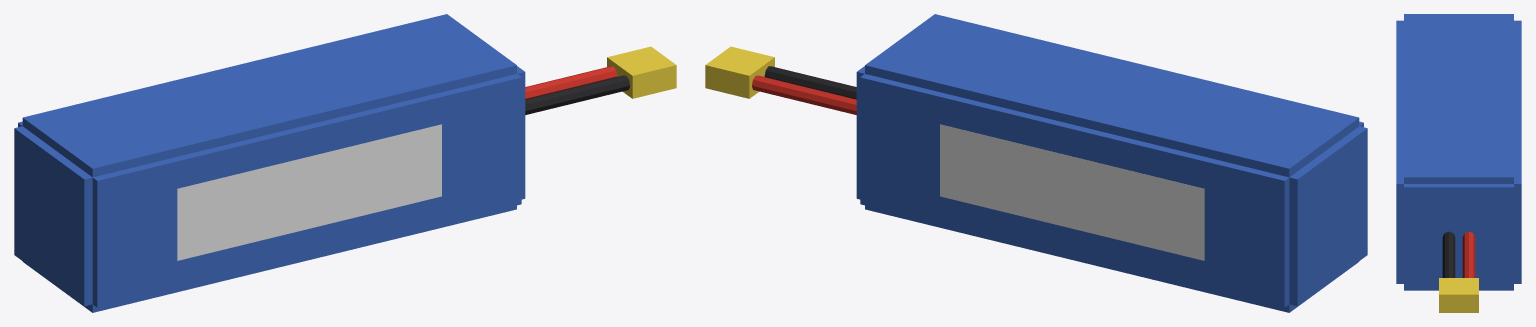
The model's file is Bat_LiPo4500.glb.
3 views of the same model, side by side, from view 1: azimuth 30°, elevation 25°; view 2: azimuth 150°, elevation 25°; view 3: azimuth 270°, elevation 25° (orthographic). The views are drawn at different scales.
Parts seen in each view (by area): view 1: Bat_LiPo4500, Label.001, XT60.001, LeadB.001, LeadR.001; view 2: Bat_LiPo4500, Label.001, XT60.001, LeadR.001, LeadB.001; view 3: Bat_LiPo4500, XT60.001, LeadR.001, LeadB.001.
Part boxes in pixels (bbox=[...]): Bat_LiPo4500: bbox=[14, 14, 525, 312]; Label.001: bbox=[177, 124, 441, 260]; XT60.001: bbox=[607, 46, 676, 98]; LeadB.001: bbox=[525, 75, 629, 114]; LeadR.001: bbox=[525, 66, 617, 99]; Bat_LiPo4500: bbox=[856, 14, 1367, 312]; Label.001: bbox=[940, 124, 1204, 260]; XT60.001: bbox=[705, 46, 774, 98]; LeadR.001: bbox=[752, 75, 856, 114]; LeadB.001: bbox=[764, 66, 856, 99]; Bat_LiPo4500: bbox=[1396, 14, 1521, 290]; XT60.001: bbox=[1439, 278, 1478, 312]; LeadR.001: bbox=[1462, 231, 1475, 277]; LeadB.001: bbox=[1442, 231, 1455, 277].
Bounding box in the file's own units: 0.223 × 0.05 × 0.0501.
